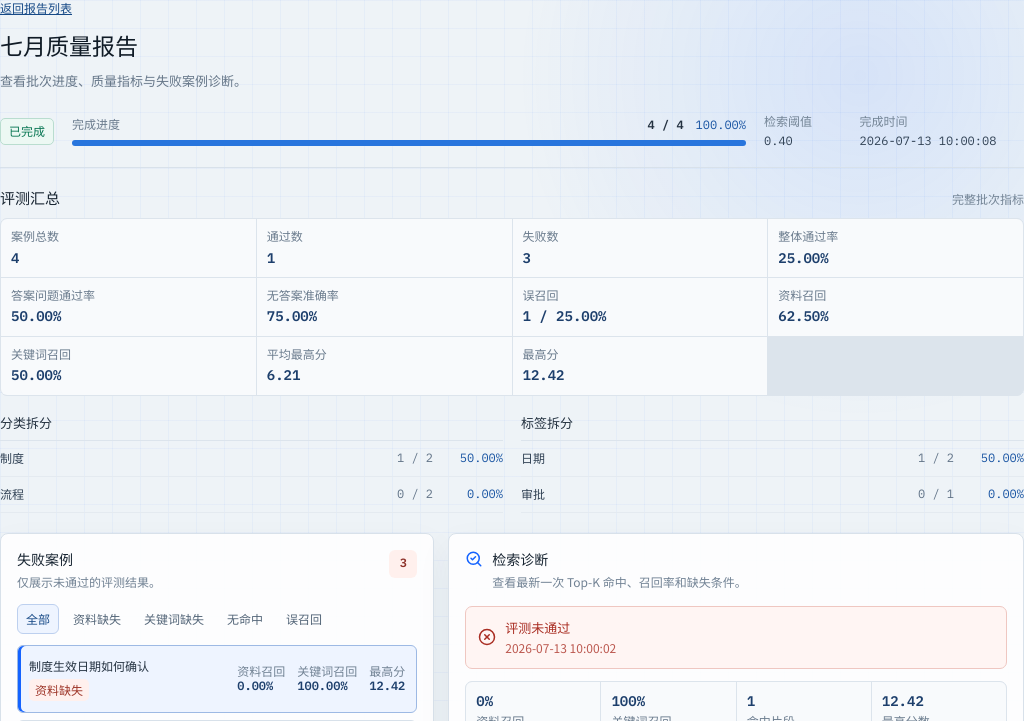
Test: QualityReportDetailPage › filters failure reasons and never includes passed runs as failures
Click the button with test id "failure-filter-missing_source" at (97, 618), box 64,604 -> 130,634
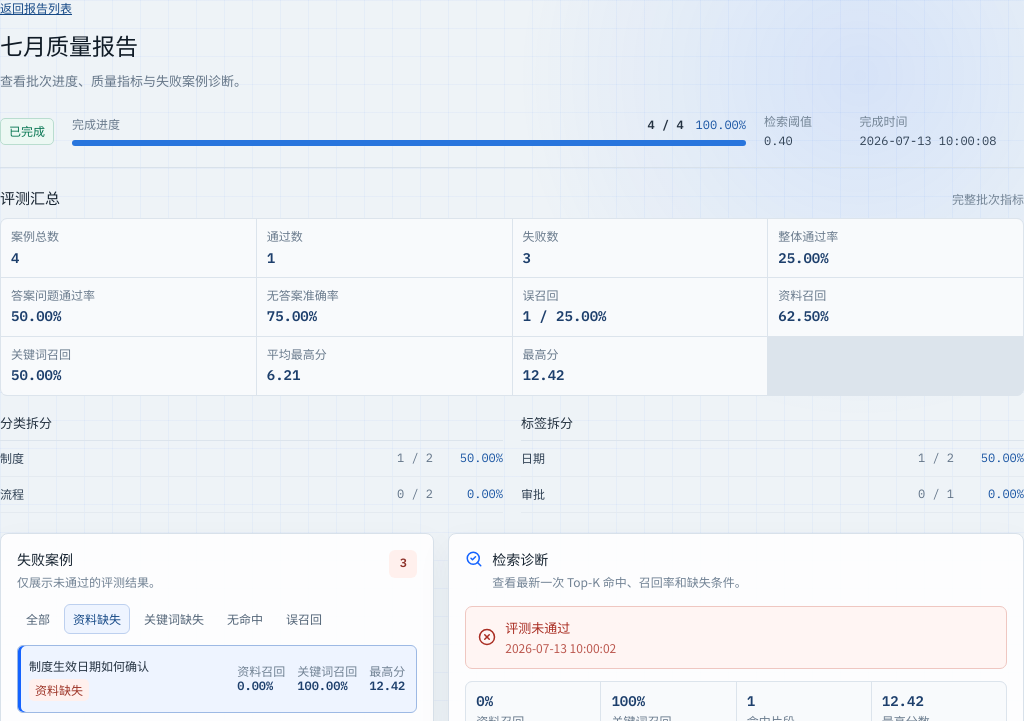
Expected: the text "制度生效日期如何确认" is shown, 29,656 -> 149,674
Click the button with test id "failure-filter-missing_term" at (174, 618), box 135,604 -> 213,634
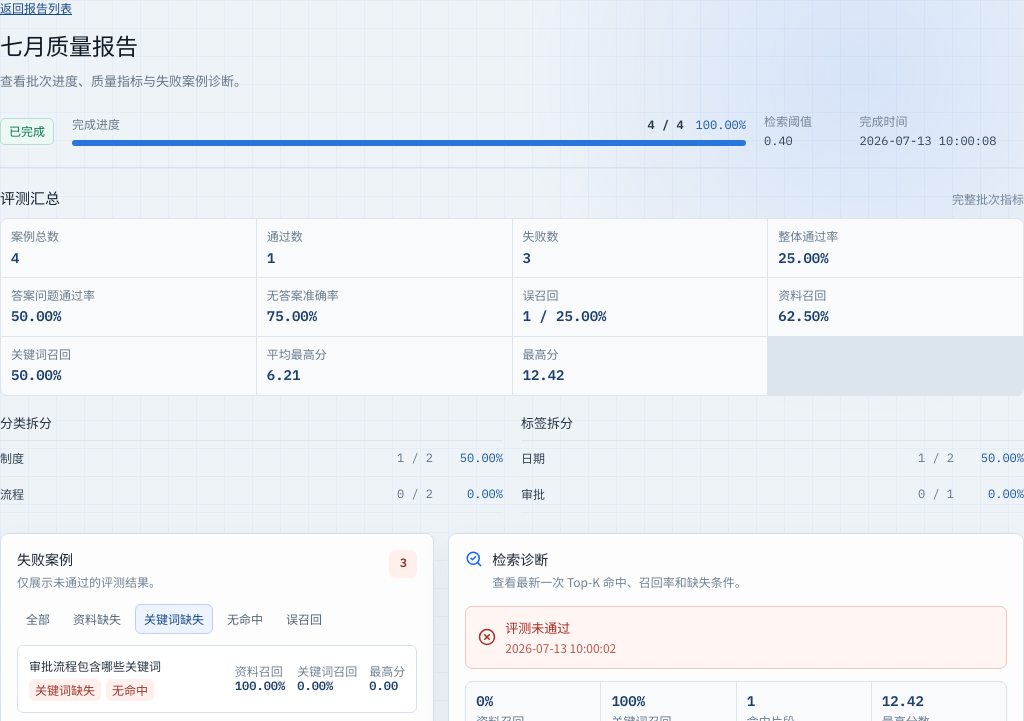
Now the text "审批流程包含哪些关键词" is shown, box 29,656 -> 161,674
Now the text "制度生效日期如何确认" is gone
Click the button with test id "failure-filter-no_hit" at (245, 618), box 218,604 -> 272,634
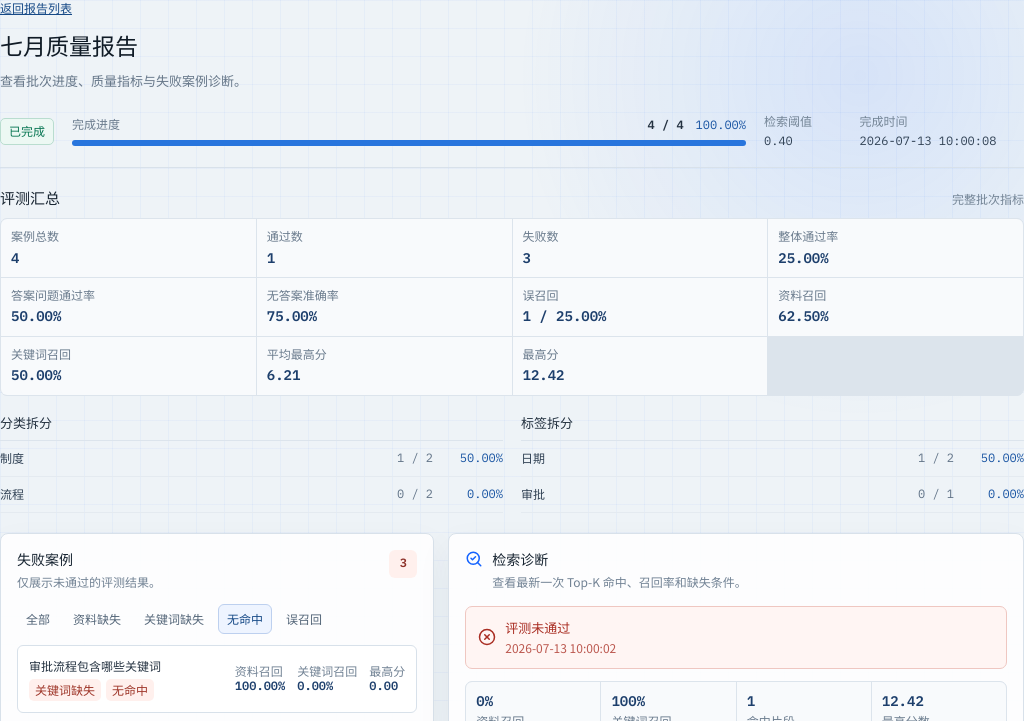
Now the text "审批流程包含哪些关键词" is shown, box 29,656 -> 161,674
Click the button with test id "failure-filter-false_positive" at (304, 618), box 277,604 -> 331,634
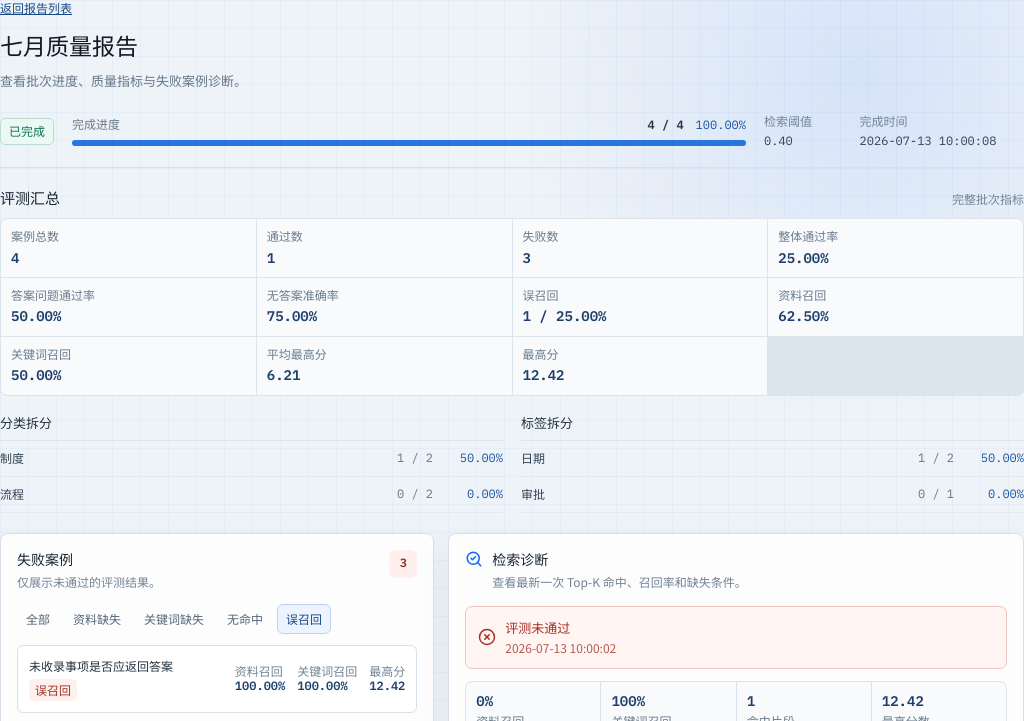
Now the text "未收录事项是否应返回答案" is shown, box 29,656 -> 173,674
Click the button with test id "failure-run-run-false-positive" at (101, 665), box 17,644 -> 417,713
(page scrolled)
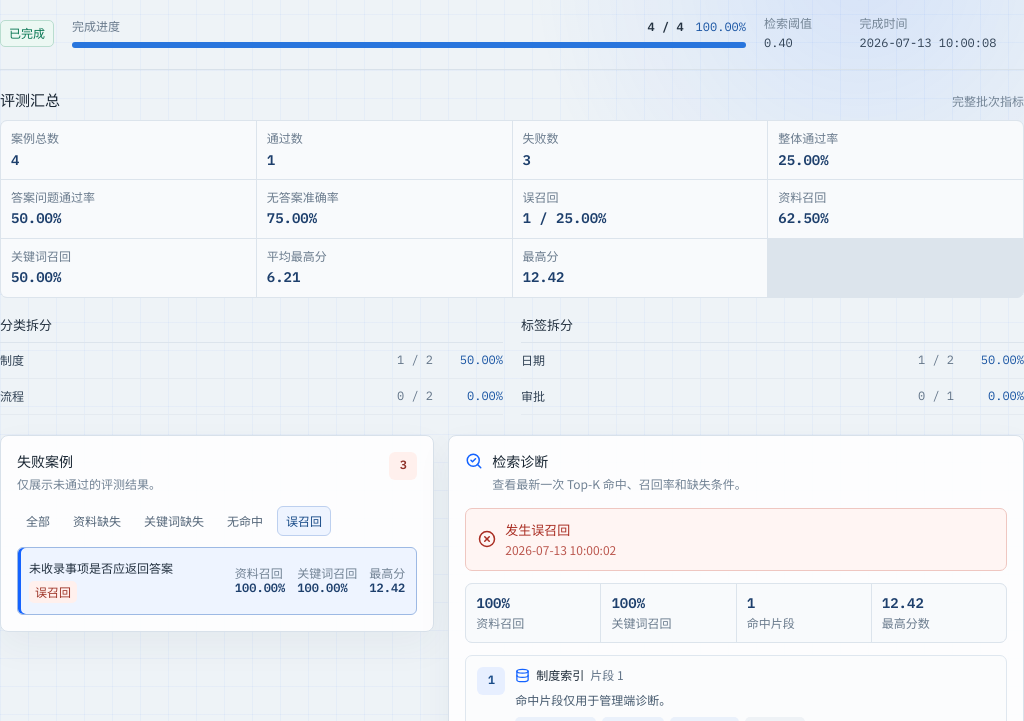
Now the element with test id "evaluation-run-detail" shows "发生误召回", box 505,520 -> 570,538
